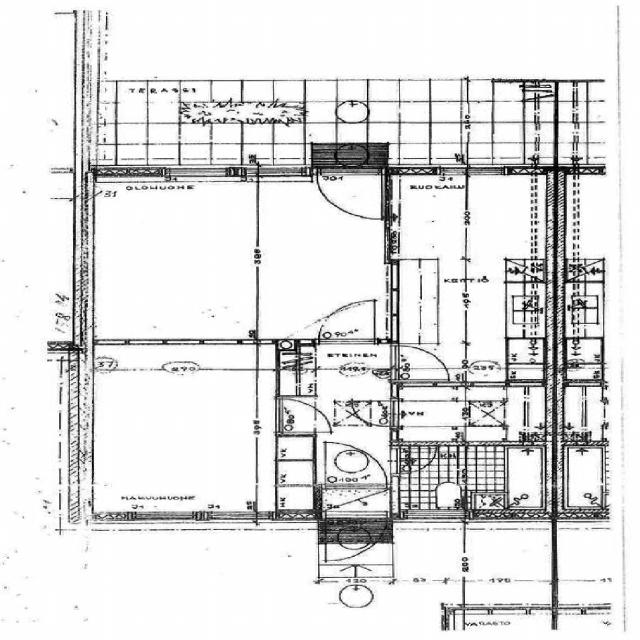door: (317, 165, 382, 218), (324, 511, 386, 563), (324, 442, 386, 488), (318, 302, 374, 344), (390, 345, 449, 379), (274, 399, 329, 431), (352, 400, 398, 426), (390, 448, 437, 473)
